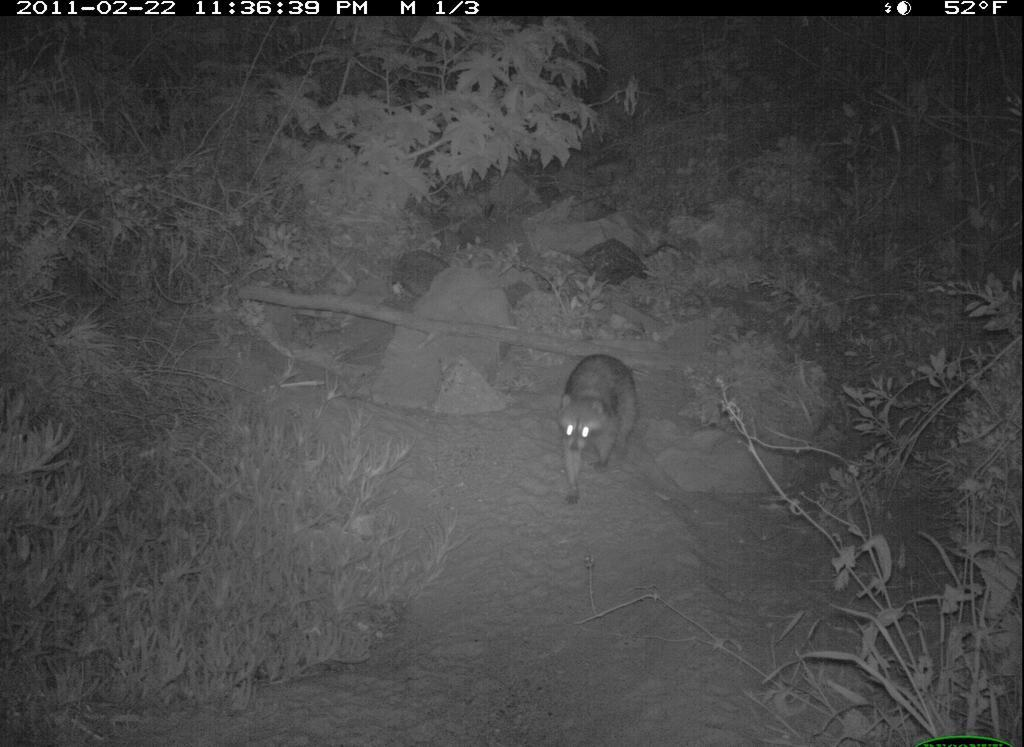raccoon: (547, 347, 658, 513)
